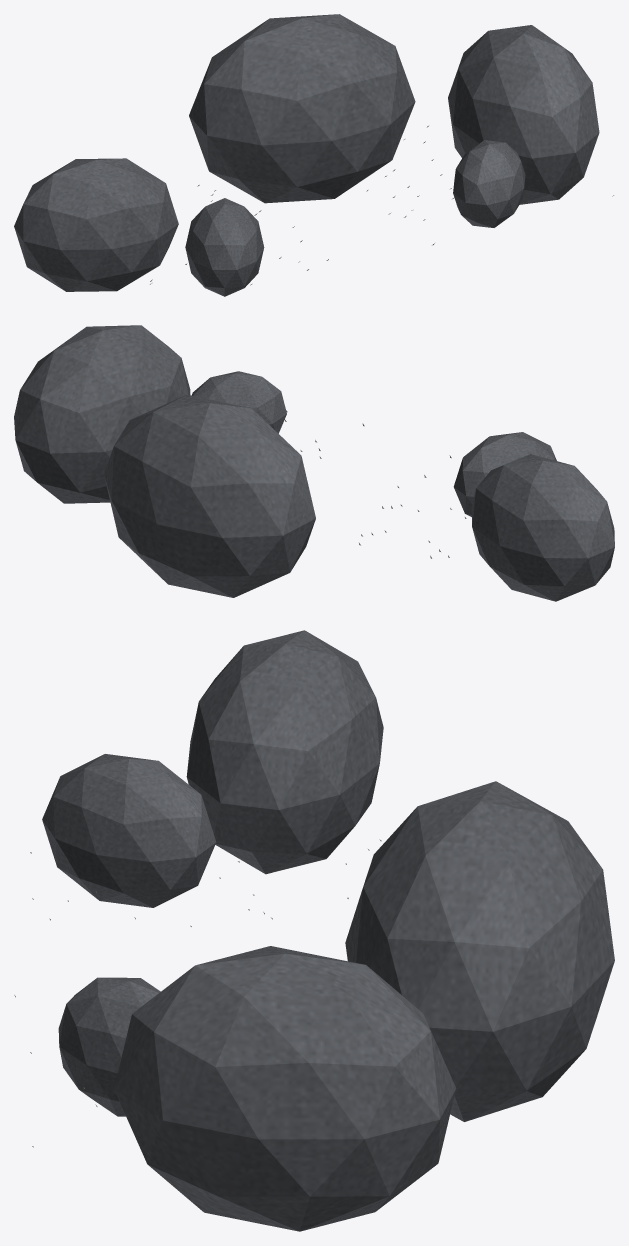
File: mountain-v1.glb
The picture shows the model from 3 angles, top to bottom: view 1: azimuth 30°, elevation 25°; view 2: azimuth 150°, elevation 25°; view 3: azimuth 270°, elevation 25°; orthographic projection. The views are drawn at different scales.
Visible parts, largest first — view 1: Fractured rock outcrop; view 2: Fractured rock outcrop; view 3: Fractured rock outcrop.
Part boxes in pixels (bbox=[...]): Fractured rock outcrop: bbox=[14, 14, 599, 296]; Fractured rock outcrop: bbox=[14, 325, 614, 601]; Fractured rock outcrop: bbox=[42, 630, 614, 1231].
Size of what is drawn, in the model's own units: 27.58 by 8.5 by 15.41.
2 materials, 2 textured.
